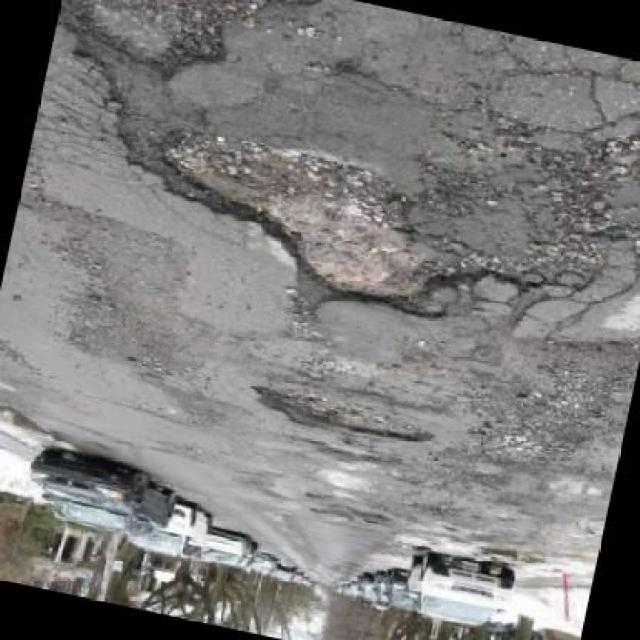pothole1: (122, 122, 507, 340), (65, 0, 242, 91), (253, 376, 442, 452)
